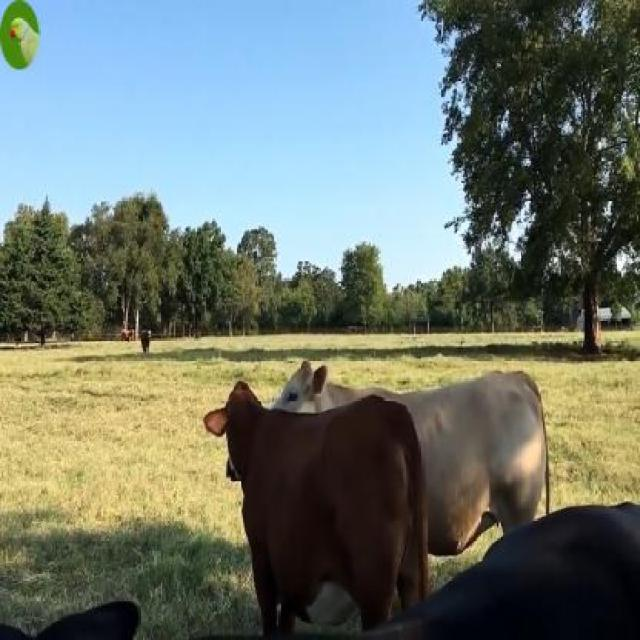Cow: (203, 382, 429, 638)
